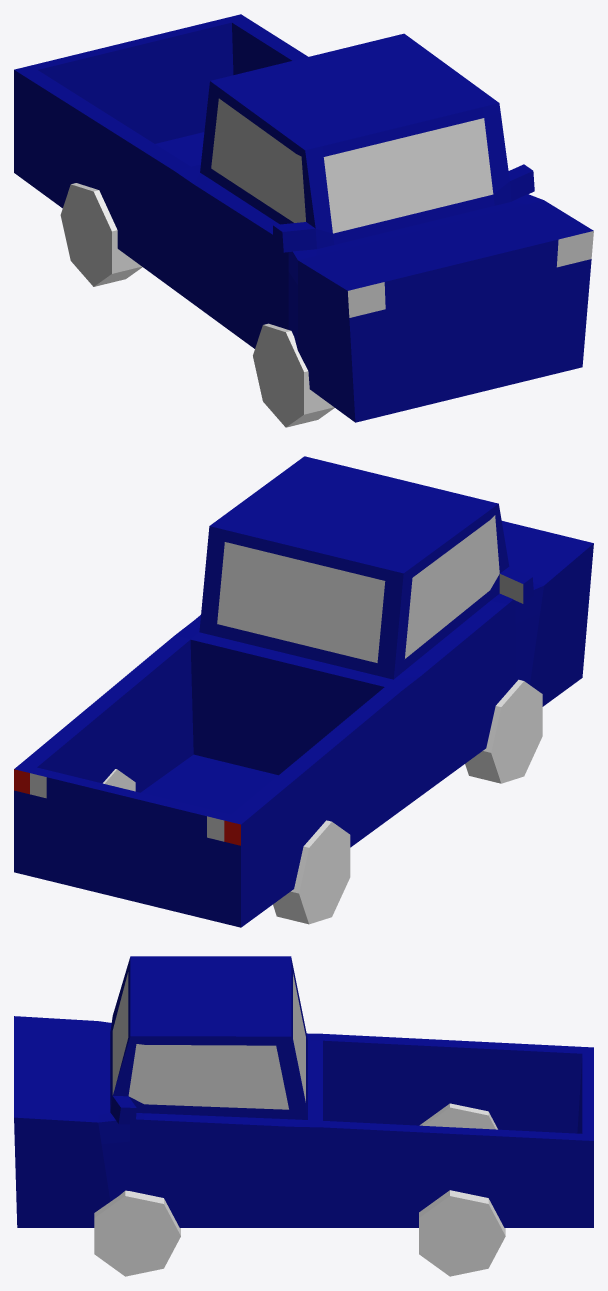
Rendered from modern_pickup.fbx.
The picture shows the model from 3 angles, top to bottom: view 1: azimuth 30°, elevation 25°; view 2: azimuth 150°, elevation 25°; view 3: azimuth 270°, elevation 25°; orthographic projection. The views are drawn at different scales.
Parts seen in each view (by area): view 1: Cube, Cylinder.002, Cylinder.003; view 2: Cube, Cylinder.002, Cylinder.003; view 3: Cube, Cylinder.001, Cylinder, Cylinder.002.
Boxes of the visible parts, left/top/right/bottom form: Cube: left=14, top=14, right=593, bottom=422; Cylinder.002: left=60, top=183, right=142, bottom=286; Cylinder.003: left=253, top=323, right=334, bottom=427; Cube: left=14, top=456, right=593, bottom=927; Cylinder.002: left=273, top=820, right=350, bottom=924; Cylinder.003: left=465, top=679, right=542, bottom=783; Cube: left=14, top=956, right=593, bottom=1227; Cylinder.001: left=419, top=1190, right=505, bottom=1276; Cylinder: left=94, top=1190, right=180, bottom=1276; Cylinder.002: left=419, top=1103, right=497, bottom=1129.
Size of the model in its own units: 2.57 by 2.61 by 6.03.
